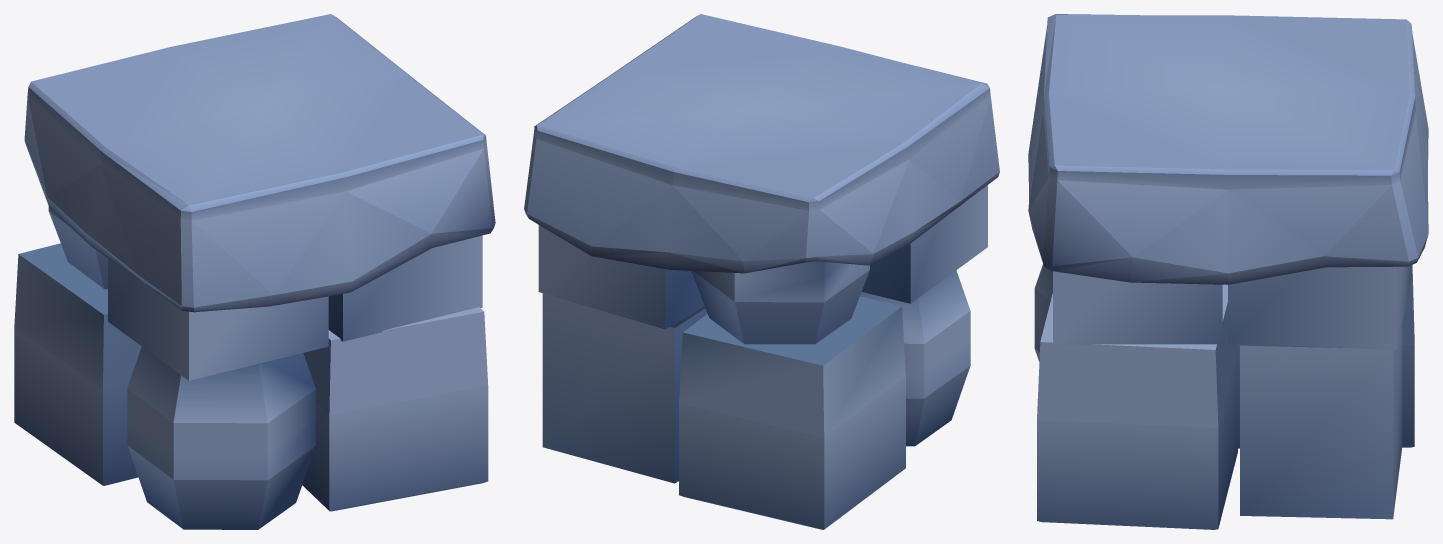
Rendered from SpoilsLarge.gltf.
3 views of the same model, side by side, from view 1: azimuth 30°, elevation 25°; view 2: azimuth 150°, elevation 25°; view 3: azimuth 270°, elevation 25° (orthographic). The views are drawn at different scales.
Parts seen in each view (by area): view 1: SpoilsLargeMesh; view 2: SpoilsLargeMesh; view 3: SpoilsLargeMesh.
Part boxes in pixels (x1,y1,x2,y2): SpoilsLargeMesh: (14,14,495,529); SpoilsLargeMesh: (524,14,999,529); SpoilsLargeMesh: (1028,14,1428,529).
Size of the model in its own units: 3.05 by 3.02 by 3.04.
